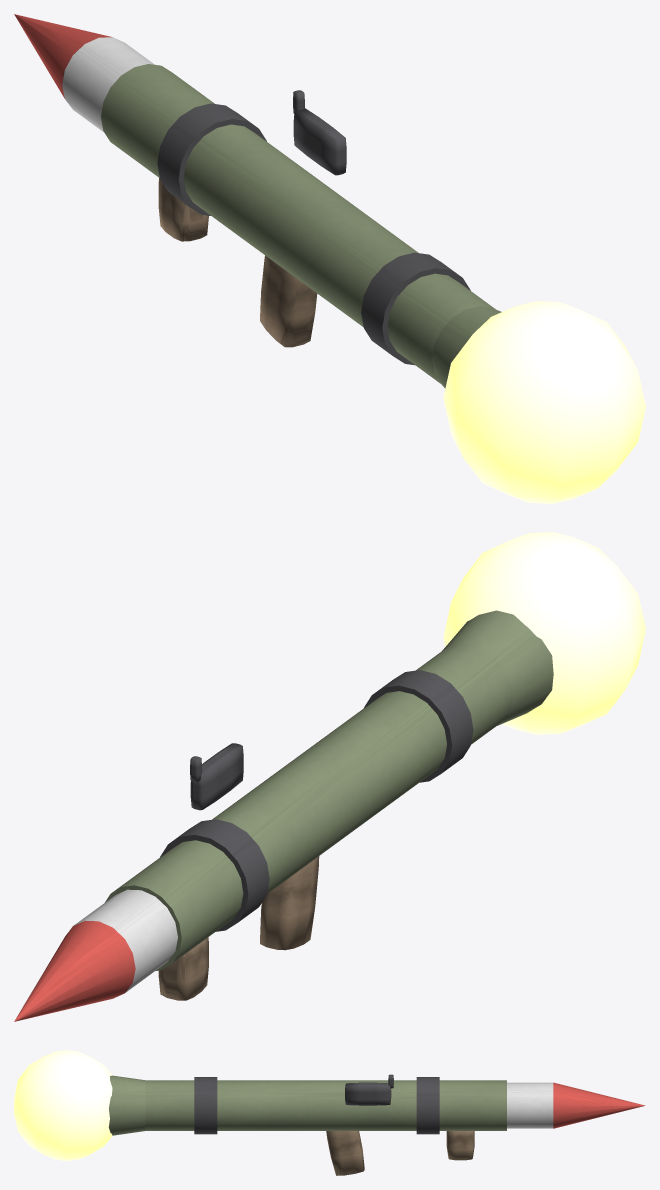
The model's file is rpg.glb.
3 views of the same model, one above another, from view 1: azimuth 30°, elevation 25°; view 2: azimuth 150°, elevation 25°; view 3: azimuth 270°, elevation 25° (orthographic). The views are drawn at different scales.
Parts seen in each view (by area): view 1: rpg_body, Flash; view 2: rpg_body, Flash; view 3: rpg_body, Flash.
Part boxes in pixels (x1=…): rpg_body: x1=14, y1=14, x2=501, y2=388; Flash: x1=443, y1=301, x2=645, y2=503; rpg_body: x1=14, y1=610, x2=553, y2=1021; Flash: x1=443, y1=532, x2=645, y2=734; rpg_body: x1=108, y1=1074, x2=645, y2=1175; Flash: x1=14, y1=1050, x2=112, y2=1160.
Bounding box in the file's own units: 0.24 × 0.281 × 1.36.
6 materials, 5 textured.
